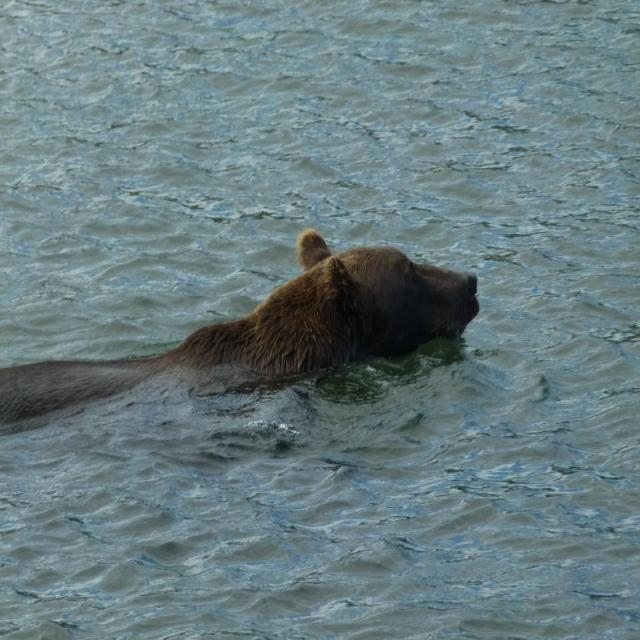bear face: (0, 228, 481, 419)
